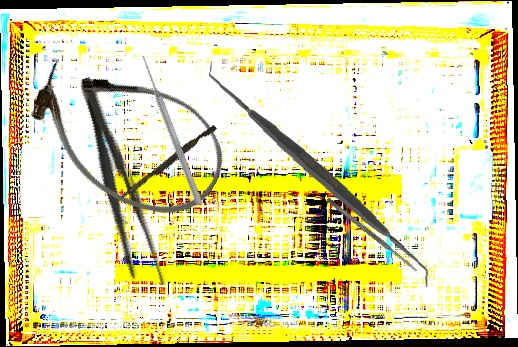Cannula: (11, 36, 244, 238)
Dressing Forceps: (67, 72, 171, 294)
Pusher: (138, 53, 205, 207), (114, 121, 218, 208)
Spatula Surgical: (202, 61, 436, 287), (325, 196, 419, 274)
